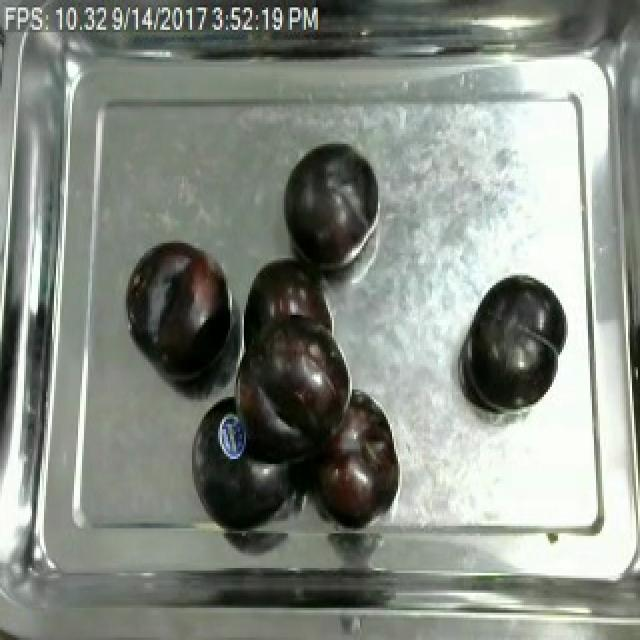Fruit: (460, 270, 570, 417), (278, 139, 382, 275), (130, 236, 232, 374), (310, 394, 406, 531)
